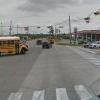Crosswalk: (5, 74, 99, 99)
